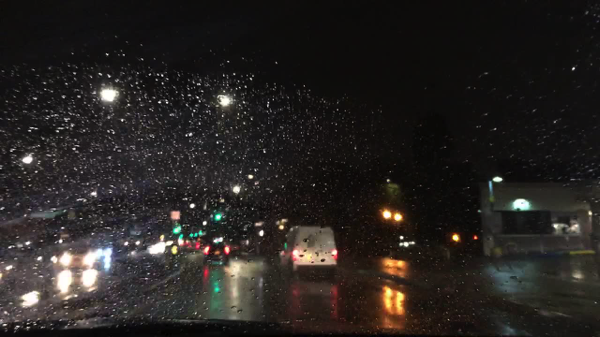car: (277, 224, 340, 280), (339, 227, 389, 258), (58, 265, 101, 288), (35, 243, 68, 266), (202, 242, 230, 267), (84, 251, 114, 271), (10, 237, 44, 254), (62, 247, 89, 268), (398, 237, 424, 257), (88, 225, 115, 240), (92, 240, 119, 253), (123, 236, 147, 250), (227, 242, 238, 257), (164, 244, 181, 252), (238, 239, 249, 251), (185, 242, 199, 250)
traffic light: (215, 212, 220, 220), (174, 226, 178, 234), (180, 234, 184, 238), (190, 233, 193, 237), (195, 232, 198, 236)
traffic sign: (384, 183, 401, 203), (448, 232, 465, 245), (170, 211, 180, 220), (472, 233, 479, 242)
